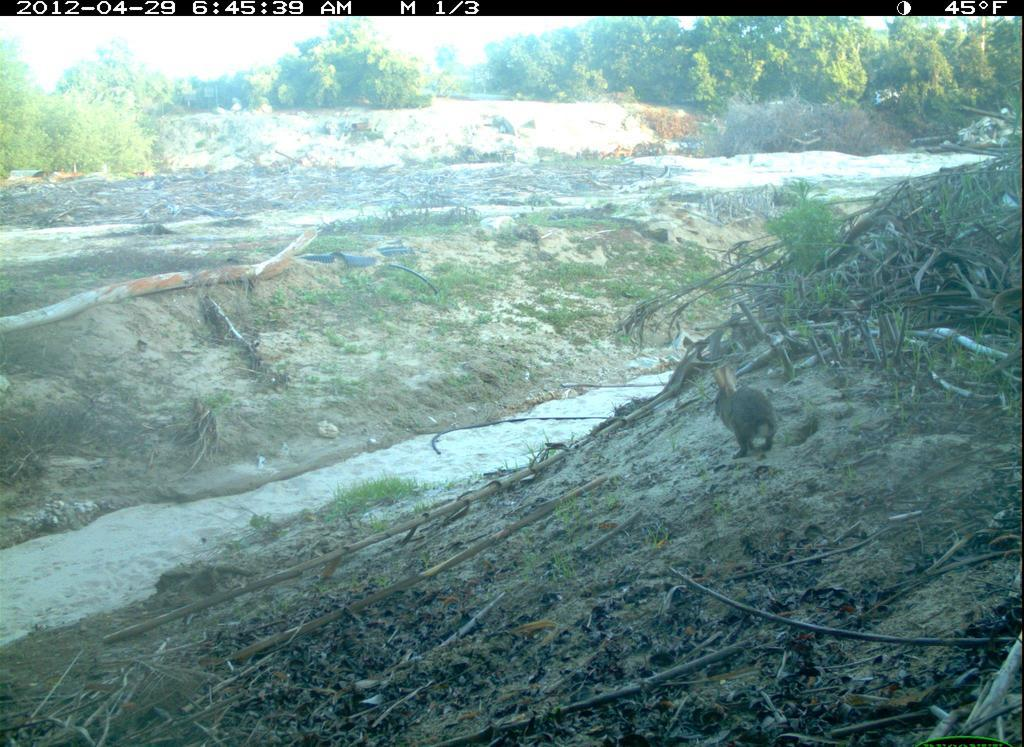rabbit: (697, 363, 783, 457)
